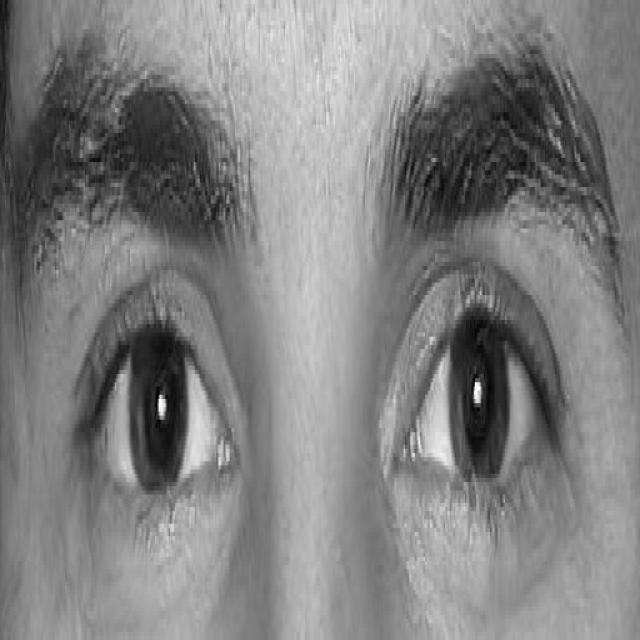real: (43, 34, 618, 614)
